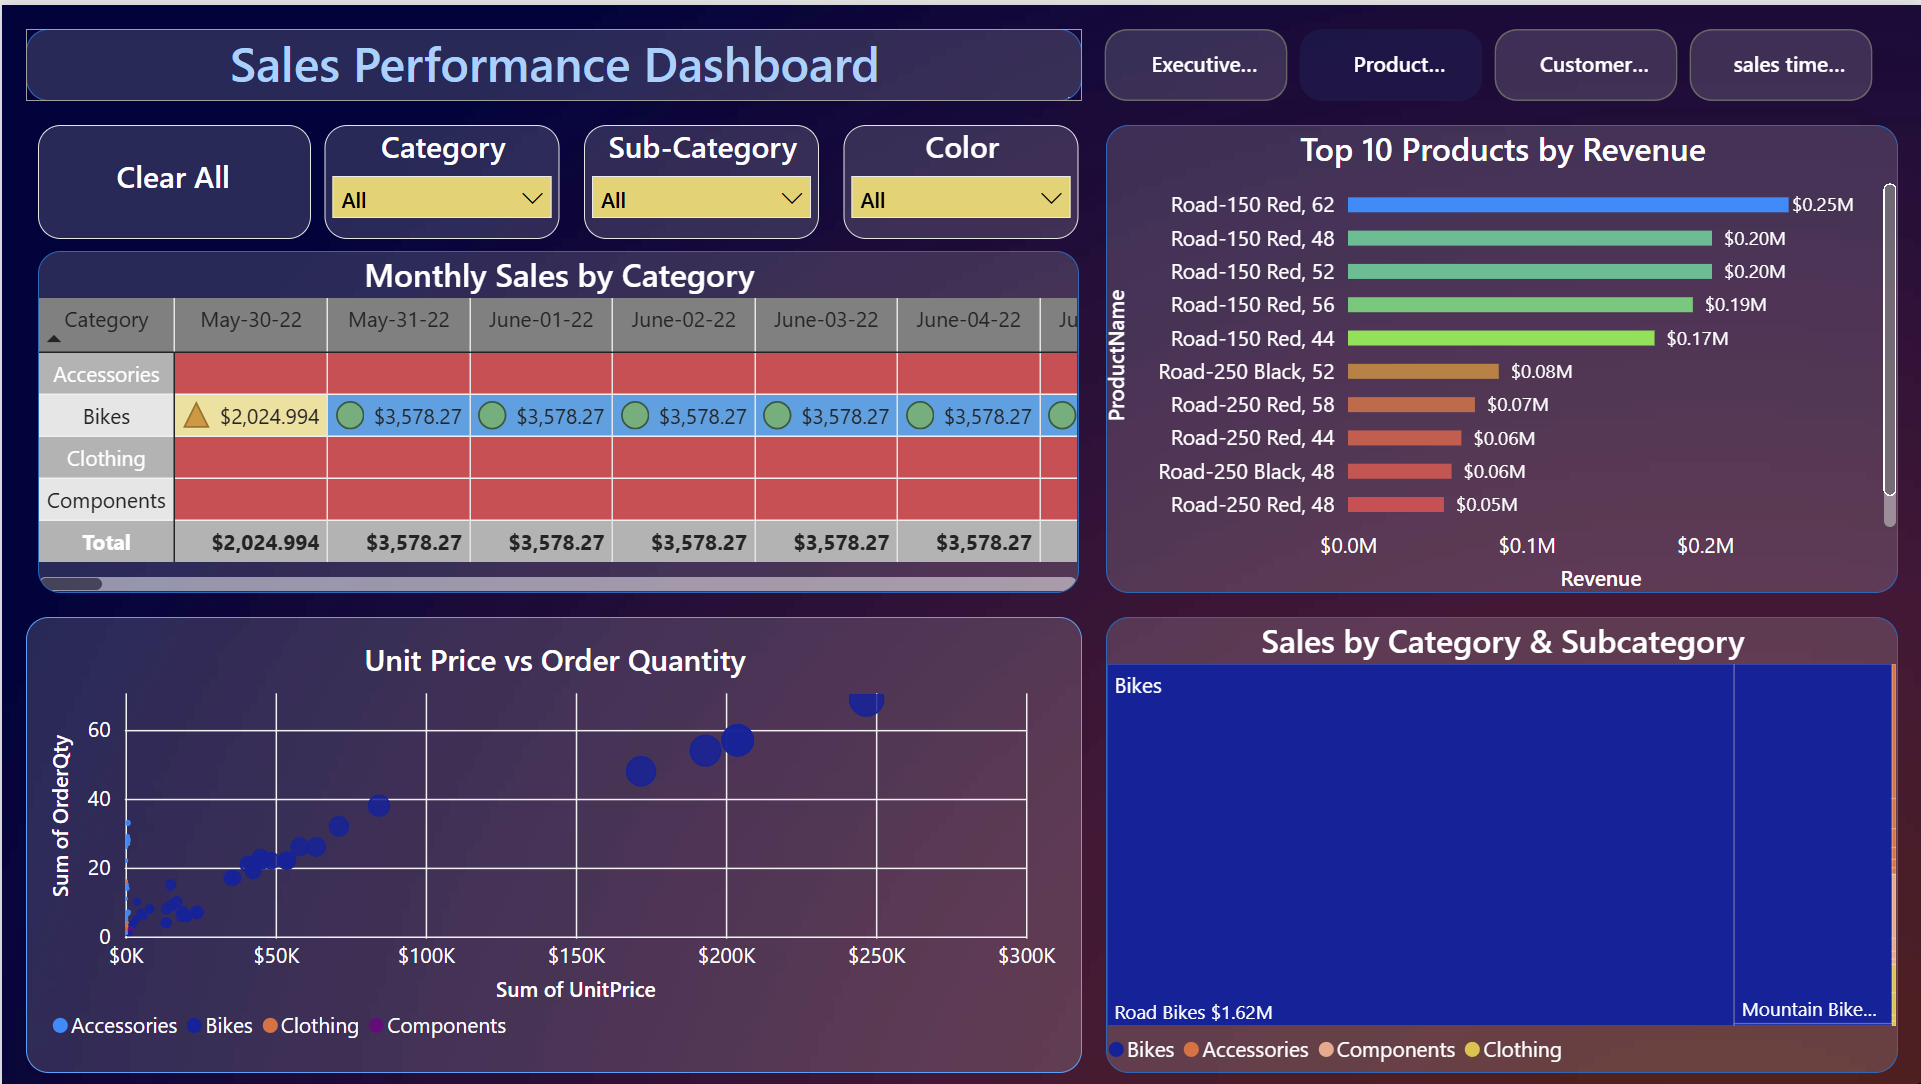

What the dashboard file says about the page in this screenshot:
{"tool":"powerbi","page":{"name":"Product Analysis","canvas":[1280,720],"ordinal":1},"visuals":[{"type":"textbox","title":"Sales Performance Dashboard","box":[16,16,704,48],"z":0},{"type":"pageNavigator","box":[735,16,512,48],"z":1000},{"type":"clusteredBarChart","title":"Top 10 Products by Revenue","fields":{"Category":["Product_view.ProductName"],"Y":["Customer_view.Total Revenue"]},"box":[736,80,528,312],"z":2000},{"type":"treemap","title":"Sales by Category & Subcategory","fields":{"Details":["Product_view.SubCategory"],"Group":["Product_view.Category"],"Values":["Customer_view.Total Revenue"]},"box":[736,408,528,304],"z":3000},{"type":"pivotTable","title":"Monthly Sales by Category ","fields":{"Columns":["DateTable.Date.Variation.Date Hierarchy.Month"],"Rows":["Product_view.Category"],"Values":["Customer_view.Total Revenue"]},"box":[24.3,164.1,693.3,228.1],"z":4000},{"type":"slicer","title":"Category","fields":{"Values":["Product_view.Category"]},"box":[215,80,157,76],"z":5000},{"type":"slicer","title":"Sub-Category","fields":{"Values":["Product_view.SubCategory"]},"box":[388,80,157,76],"z":6000},{"type":"slicer","title":"Color","fields":{"Values":["Product_view.Color"]},"box":[561,80,157,76],"z":7000},{"type":"scatterChart","title":"Unit Price vs Order Quantity","fields":{"Category":["Product_view.ProductName"],"Series":["Product_view.Category"],"Size":["Customer_view.Total Revenue"],"X":["Sum(Sales_view.UnitPrice)"],"Y":["Sum(Sales_view.OrderQty)"]},"box":[16,408,704,304],"z":8000},{"type":"actionButton","title":"Clear All","box":[24,80,182,76],"z":9000}]}

Visuals, with their boxes in screenshot pixels (x1, y1, x2, y2), scaled from the page's 1280x720 canvas onto the 1921x1084 screenshot:
"Sales Performance Dashboard" textbox: (left=24, top=24, right=1081, bottom=96)
pageNavigator: (left=1103, top=24, right=1871, bottom=96)
"Top 10 Products by Revenue" clusteredBarChart: (left=1105, top=120, right=1897, bottom=590)
"Sales by Category & Subcategory" treemap: (left=1105, top=614, right=1897, bottom=1072)
"Monthly Sales by Category " pivotTable: (left=36, top=247, right=1077, bottom=590)
"Category" slicer: (left=323, top=120, right=558, bottom=235)
"Sub-Category" slicer: (left=582, top=120, right=818, bottom=235)
"Color" slicer: (left=842, top=120, right=1078, bottom=235)
"Unit Price vs Order Quantity" scatterChart: (left=24, top=614, right=1081, bottom=1072)
"Clear All" actionButton: (left=36, top=120, right=309, bottom=235)
